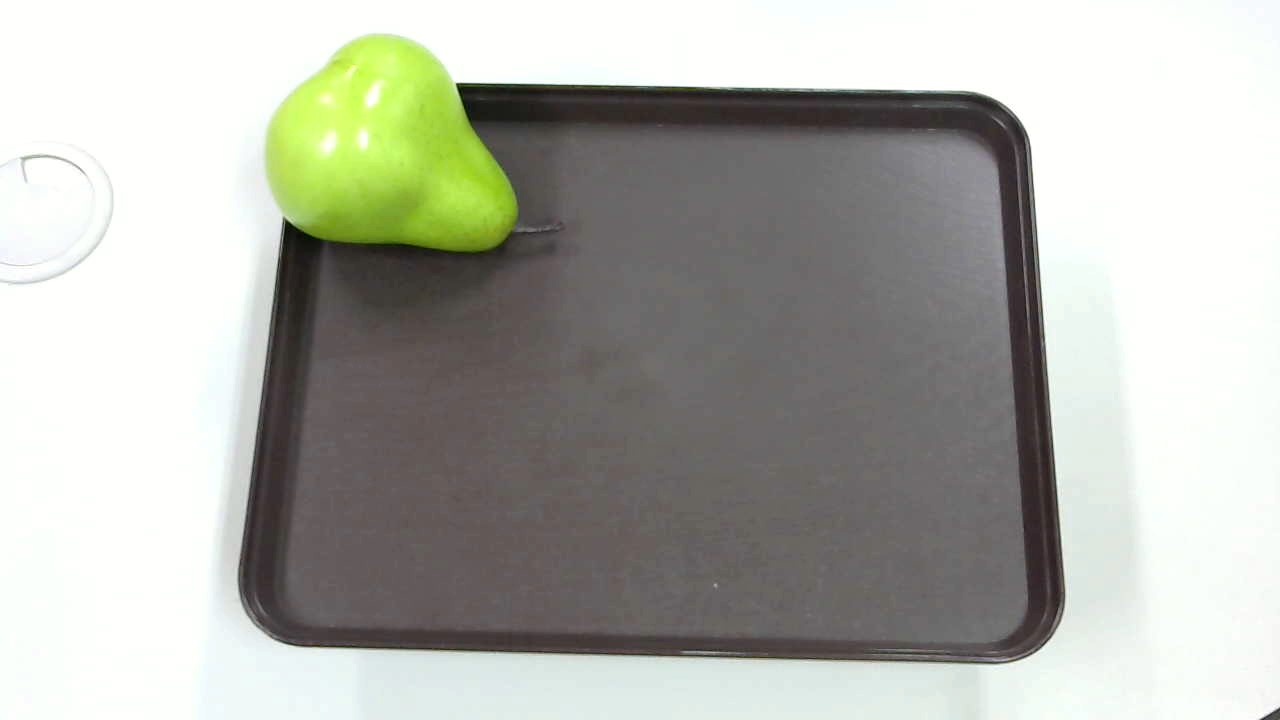green pear: (249, 29, 581, 266)
